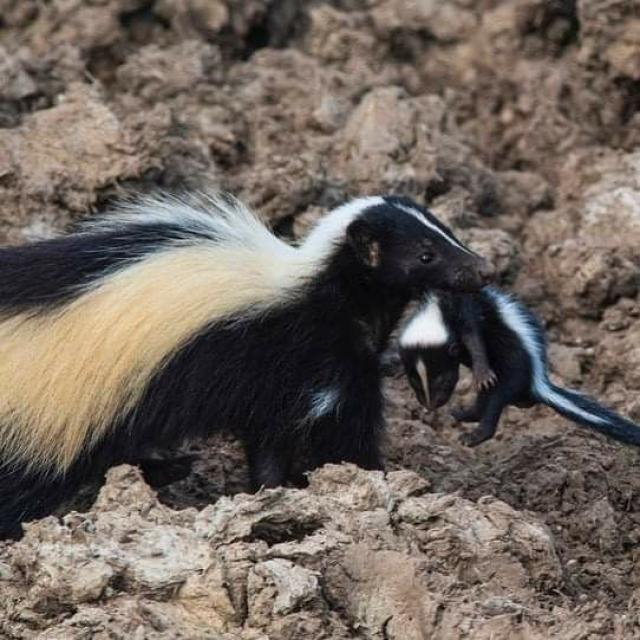Skunk: (0, 126, 504, 478)
